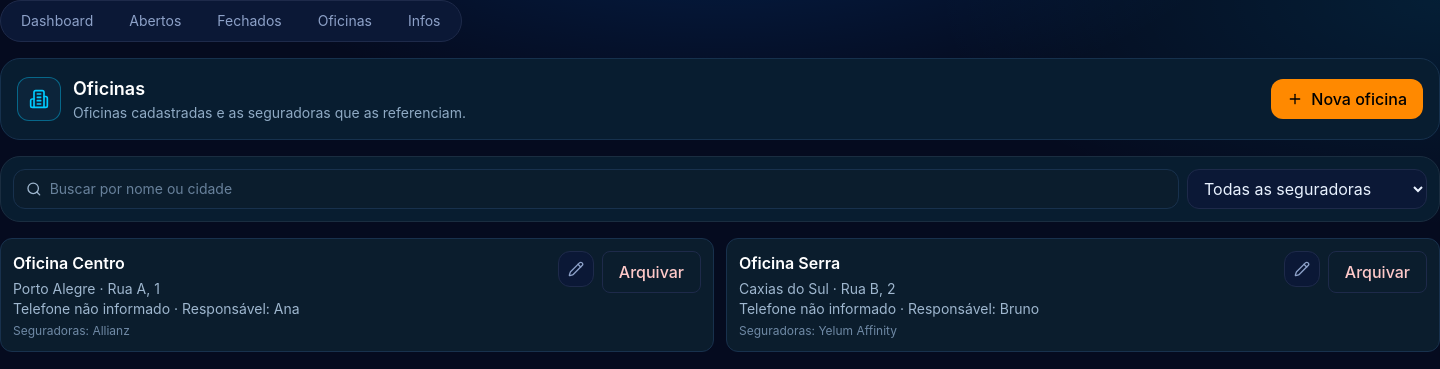
Test: Sinistros › filtra oficinas por cidade e seguradora referenciada
The width and height of the screenshot is (1440, 369).
Expected: the heading "Oficina Centro" is shown, [13,253,125,273]
Type "caxias" into the field named "Buscar oficinas" at (608, 189), box [50,179,1166,199]
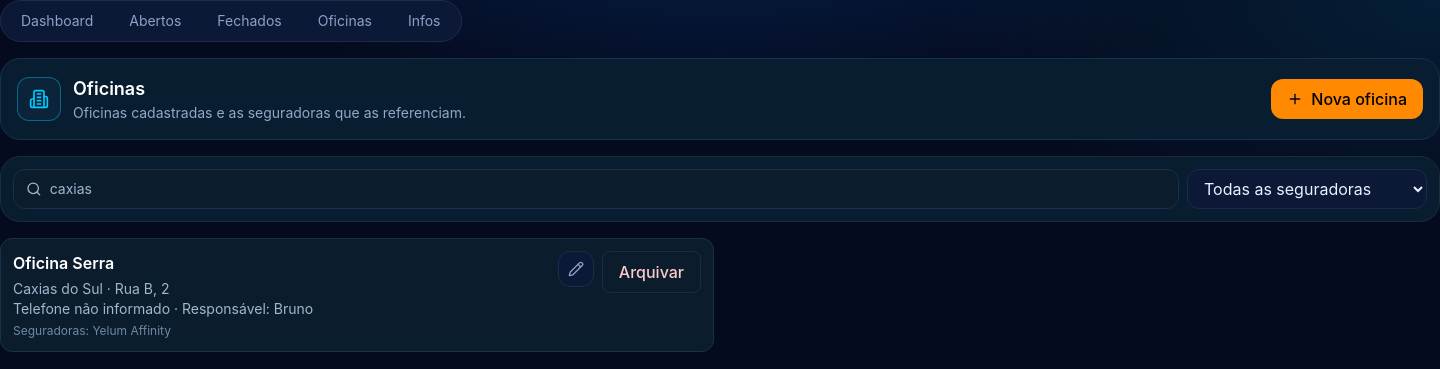
Expected: the heading "Oficina Serra" is shown, [13,253,114,273]
Now the heading "Oficina Centro" is gone
Clear the field named "Buscar oficinas" at (608, 189), box [50,179,1166,199]
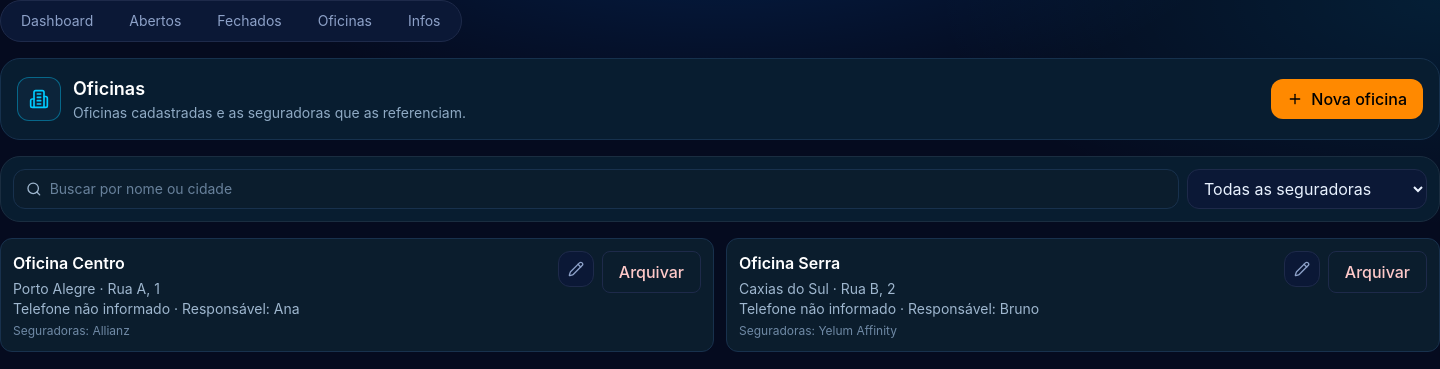
Select "Allianz" in the dropdown named "Filtrar por seguradora referenciada" at (1307, 189), box [1187,169,1427,209]
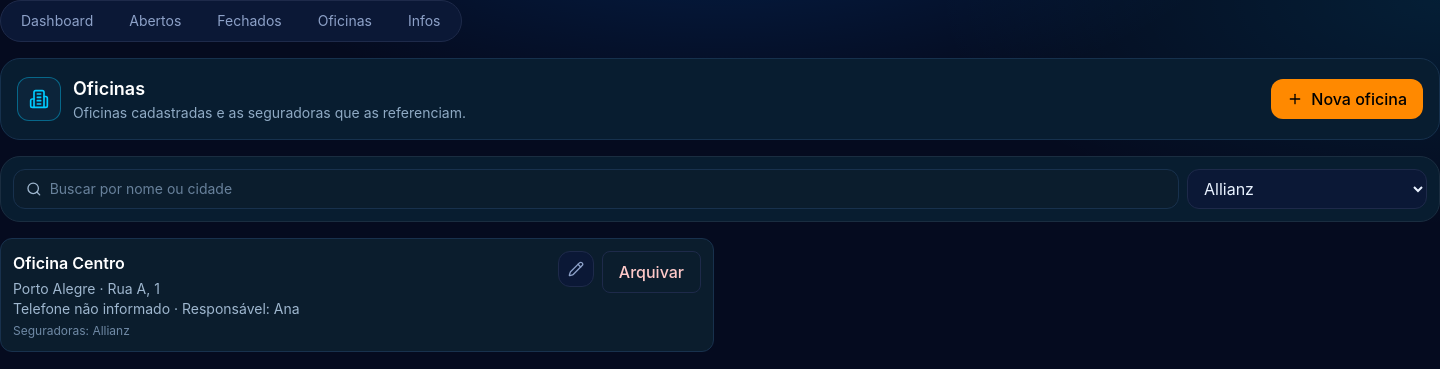
Now the heading "Oficina Centro" is shown, box [13,253,125,273]
Now the heading "Oficina Serra" is gone
